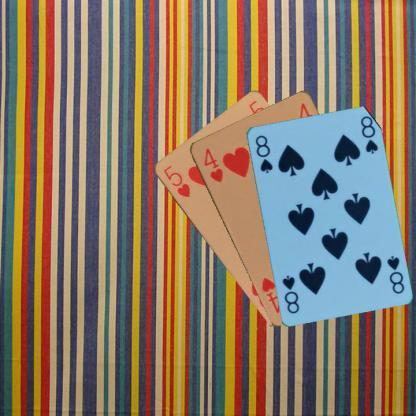4h: (201, 144, 224, 184)
5h: (160, 162, 192, 200)
8s: (384, 252, 406, 296), (252, 132, 274, 174)
